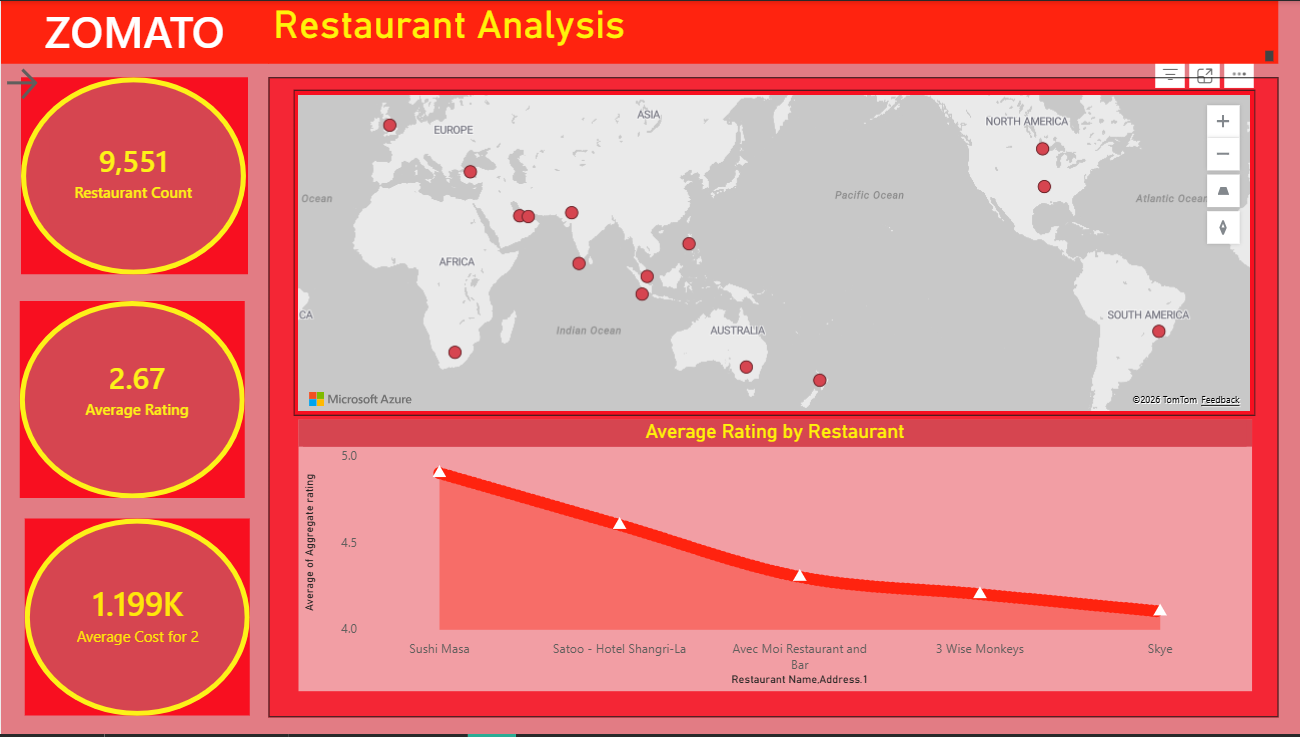

The page's visual inventory and layout, read from the dashboard file:
{"tool":"powerbi","page":{"name":"Worldwide Analysis","canvas":[1280,720],"ordinal":0},"visuals":[{"type":"group","id":"g1","title":"Group 1","box":[20,74.3,221.4,194.3],"z":0},{"type":"shape","box":[20,74.3,220.9,193.9],"z":0,"group":"g1"},{"type":"shape","box":[262.9,74.3,991.4,628.5],"z":0,"group":"g4"},{"type":"shape","box":[18,294.1,220.9,193.9],"z":0,"group":"g2"},{"type":"shape","box":[23.3,508,220.9,193.9],"z":0,"group":"g3"},{"type":"azureMap","fields":{"Category":["Country Master.Country"],"Y":["Avg(Append1.Latitude)"],"X":["Avg(Append1.Longitude)"]},"box":[288,87,943.6,319.6],"z":1000,"group":"g4"},{"type":"cardVisual","fields":{"Data":["CountNonNull(KPIs.Aggregate rating)"]},"box":[48.4,113.3,164.1,106],"z":1000,"group":"g1"},{"type":"group","id":"g2","title":"Group 1","box":[18,294.1,220.9,193.9],"z":1000},{"type":"cardVisual","fields":{"Data":["Avg(KPIs.Aggregate rating)"]},"box":[51.7,327.3,164.1,106],"z":1000,"group":"g2"},{"type":"cardVisual","fields":{"Data":["Avg(KPIs.Average Cost for two)"]},"box":[39.8,547.7,190.2,108],"z":1000,"group":"g3"},{"type":"lineChart","title":"Average Rating by Restaurant","fields":{"Category":["Append1.Restaurant Name,Address.1"],"Y":["Avg(KPIs.Aggregate rating)"]},"box":[292.1,411.1,935.7,266.2],"z":2000,"group":"g4"},{"type":"group","id":"g3","title":"Group 1","box":[23.3,508,220.9,193.9],"z":2000},{"type":"group","id":"g4","title":"Group 2","box":[262.9,74.3,991.4,628.6],"z":3000},{"type":"textbox","title":"Restaurant Analysis","box":[262.9,0,991.4,61.4],"z":4000},{"type":"textbox","title":"ZOMATO ","box":[0,0,262.9,61.4],"z":5000},{"type":"actionButton","box":[0,61.2,40,40],"z":8000}]}

Visuals, with their boxes in screenshot pixels (x1, y1, x2, y2), scaled from the page's 1280x720 canvas onto the 1300x737 screenshot:
"Group 1" group: (20,76,245,275)
shape: (20,76,245,275)
shape: (267,76,1274,719)
shape: (18,301,243,500)
shape: (24,520,248,718)
azureMap - Country Master.Country x Avg(Append1.Latitude): (292,89,1251,416)
cardVisual - CountNonNull(KPIs.Aggregate rating): (49,116,216,224)
"Group 1" group: (18,301,243,500)
cardVisual - Avg(KPIs.Aggregate rating): (53,335,219,444)
cardVisual - Avg(KPIs.Average Cost for two): (40,561,234,671)
"Average Rating by Restaurant" lineChart: (297,421,1247,693)
"Group 1" group: (24,520,248,718)
"Group 2" group: (267,76,1274,719)
"Restaurant Analysis" textbox: (267,0,1274,63)
"ZOMATO " textbox: (0,0,267,63)
actionButton: (0,63,41,104)
